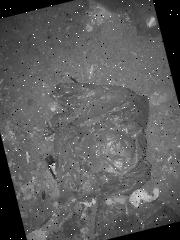plastic: (35, 63, 172, 210)
